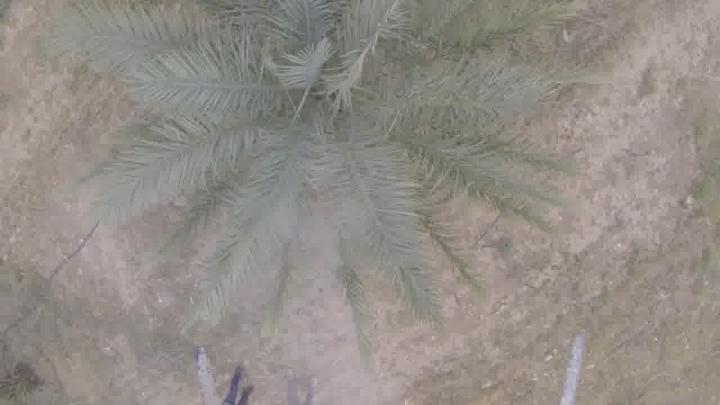Date-Palm-Crown: (201, 0, 473, 248)
